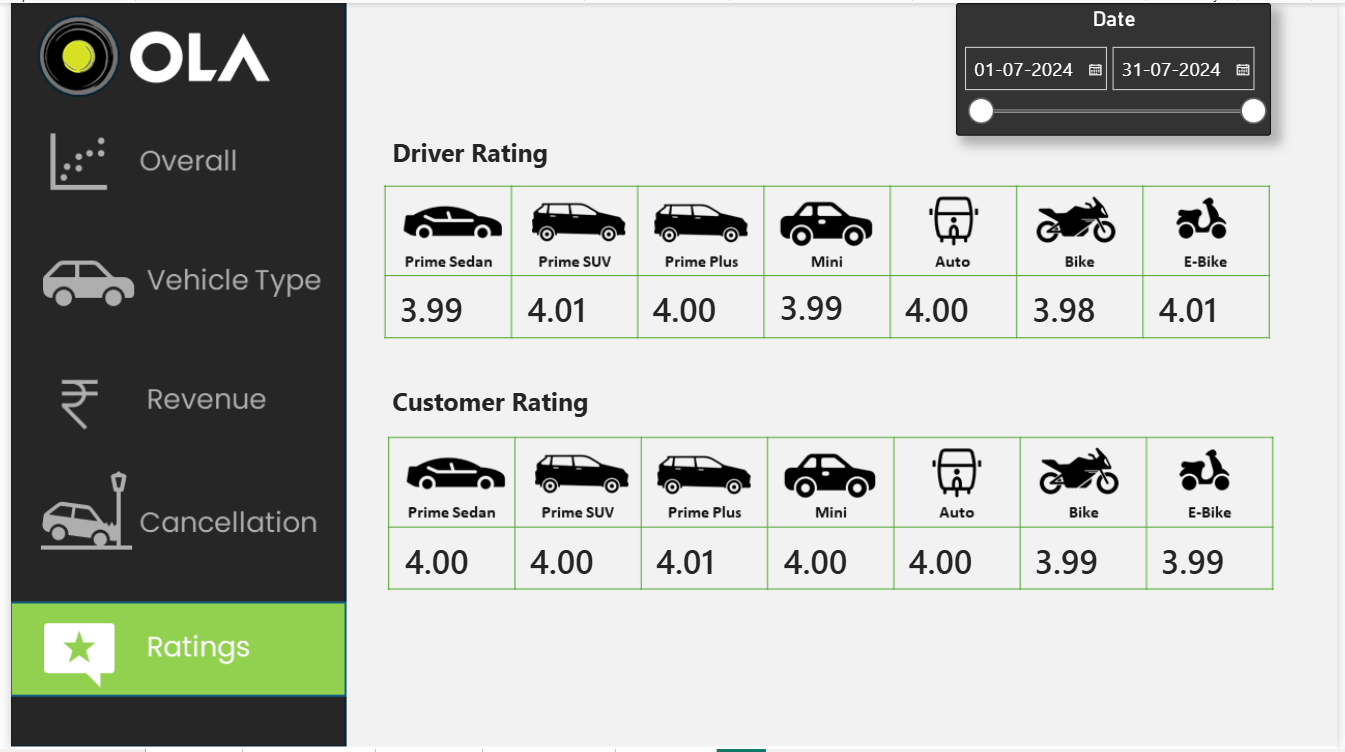

Layout of this report page (visuals, bound fields, positions):
{"tool":"powerbi","page":{"name":"Ratings","canvas":[1280,720],"ordinal":4},"visuals":[{"type":"actionButton","box":[0,224,322,91],"z":0},{"type":"actionButton","box":[0,336,322,91],"z":1000},{"type":"actionButton","box":[0,448,322,91],"z":2000},{"type":"actionButton","box":[0,112,322,91],"z":3000},{"type":"cardVisual","fields":{"Data":["Avg(Bookings.Driver_Ratings)"]},"box":[363,267,117,53],"z":3001},{"type":"cardVisual","fields":{"Data":["Avg(Bookings.Driver_Ratings)"]},"box":[486,267,117,53],"z":3002},{"type":"cardVisual","fields":{"Data":["Avg(Bookings.Driver_Ratings)"]},"box":[607,267,117,53],"z":3003},{"type":"cardVisual","fields":{"Data":["Avg(Bookings.Driver_Ratings)"]},"box":[730,266,117,53],"z":3004},{"type":"cardVisual","fields":{"Data":["Avg(Bookings.Driver_Ratings)"]},"box":[851,267,117,53],"z":3005},{"type":"cardVisual","fields":{"Data":["Avg(Bookings.Driver_Ratings)"]},"box":[973,267,117,53],"z":3006},{"type":"cardVisual","fields":{"Data":["Avg(Bookings.Driver_Ratings)"]},"box":[1095,267,117,53],"z":3007},{"type":"cardVisual","fields":{"Data":["Avg(Bookings.Customer_Rating)"]},"box":[368,510,117,53],"z":3008},{"type":"cardVisual","fields":{"Data":["Avg(Bookings.Customer_Rating)"]},"box":[489,510,117,53],"z":3009},{"type":"cardVisual","fields":{"Data":["Avg(Bookings.Customer_Rating)"]},"box":[611,510,117,53],"z":3010},{"type":"cardVisual","fields":{"Data":["Avg(Bookings.Customer_Rating)"]},"box":[733,510,117,53],"z":3011},{"type":"cardVisual","fields":{"Data":["Avg(Bookings.Customer_Rating)"]},"box":[854,510,117,53],"z":3012},{"type":"cardVisual","fields":{"Data":["Avg(Bookings.Customer_Rating)"]},"box":[976,510,117,53],"z":3013},{"type":"cardVisual","fields":{"Data":["Avg(Bookings.Customer_Rating)"]},"box":[1098,510,117,53],"z":3014},{"type":"textbox","box":[368,128,176,48],"z":3015},{"type":"textbox","box":[368,368,240,48],"z":3016},{"type":"slicer","title":"Date","fields":{"Values":["Bookings.Date"]},"box":[912,0,304,128],"z":3017}]}

Visuals, with their boxes in screenshot pixels (x1, y1, x2, y2), scaled from the page's 1280x720 canvas onto the 1345x752 screenshot:
actionButton: 0,234,338,329
actionButton: 0,351,338,446
actionButton: 0,468,338,563
actionButton: 0,117,338,212
cardVisual - Avg(Bookings.Driver_Ratings): 381,279,504,334
cardVisual - Avg(Bookings.Driver_Ratings): 511,279,634,334
cardVisual - Avg(Bookings.Driver_Ratings): 638,279,761,334
cardVisual - Avg(Bookings.Driver_Ratings): 767,278,890,333
cardVisual - Avg(Bookings.Driver_Ratings): 894,279,1017,334
cardVisual - Avg(Bookings.Driver_Ratings): 1022,279,1145,334
cardVisual - Avg(Bookings.Driver_Ratings): 1151,279,1274,334
cardVisual - Avg(Bookings.Customer_Rating): 387,533,510,588
cardVisual - Avg(Bookings.Customer_Rating): 514,533,637,588
cardVisual - Avg(Bookings.Customer_Rating): 642,533,765,588
cardVisual - Avg(Bookings.Customer_Rating): 770,533,893,588
cardVisual - Avg(Bookings.Customer_Rating): 897,533,1020,588
cardVisual - Avg(Bookings.Customer_Rating): 1026,533,1149,588
cardVisual - Avg(Bookings.Customer_Rating): 1154,533,1277,588
textbox: 387,134,572,184
textbox: 387,384,639,434
"Date" slicer: 958,0,1278,134
